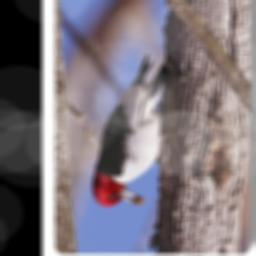Woodpecker: (91, 55, 172, 208)
